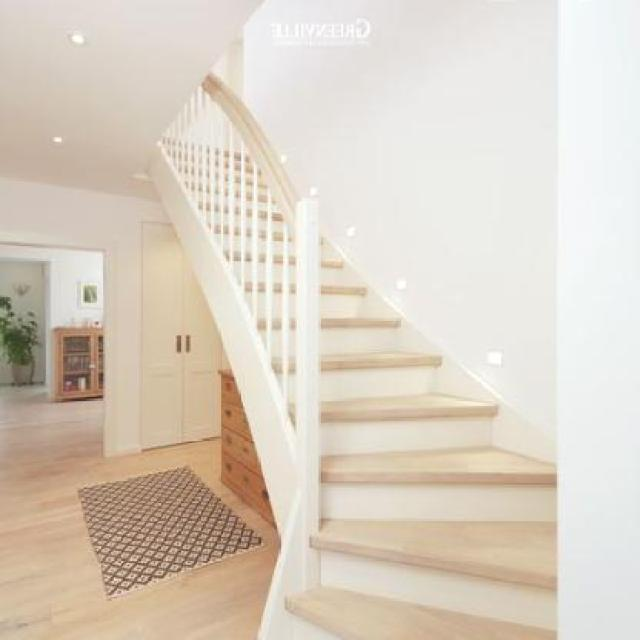stair: (123, 120, 594, 635)
